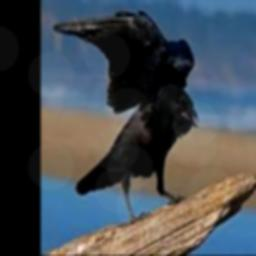Crow: (53, 9, 198, 226)
